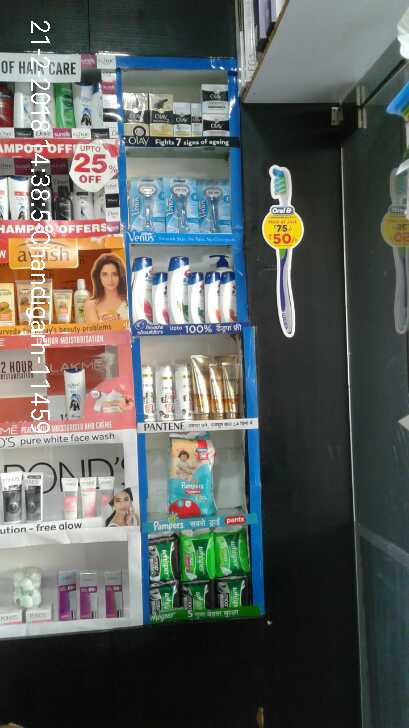venus: (165, 177, 200, 232), (131, 177, 165, 231), (200, 177, 231, 232)
